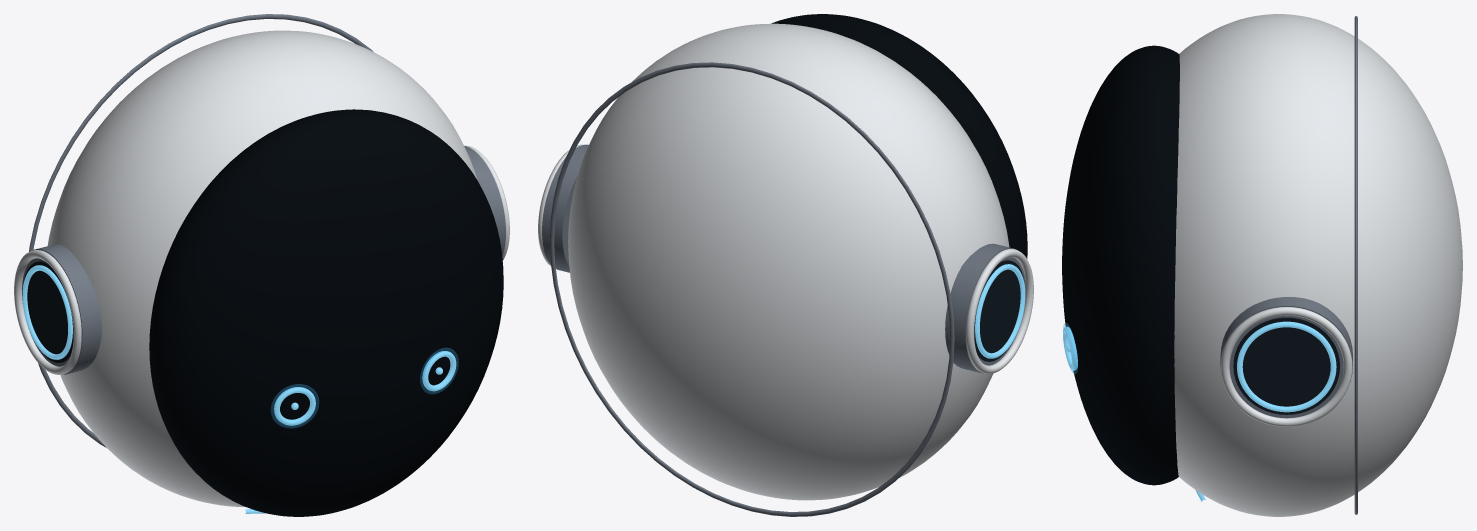
File: asl-head.glb
3 views of the same model, side by side, from view 1: azimuth 30°, elevation 25°; view 2: azimuth 150°, elevation 25°; view 3: azimuth 270°, elevation 25° (orthographic). The views are drawn at different scales.
Visible parts, largest first — view 1: GlassVisor, Head; view 2: Head, GlassVisor; view 3: Head, GlassVisor.
Part boxes in pixels (left/top/right/bottom): GlassVisor: left=149, top=109, right=503, bottom=516; Head: left=14, top=14, right=509, bottom=513; Head: left=538, top=23, right=1033, bottom=516; GlassVisor: left=771, top=14, right=1027, bottom=258; Head: left=1063, top=14, right=1462, bottom=516; GlassVisor: left=1062, top=45, right=1179, bottom=485.
Size of the model in its own units: 0.3194 by 0.314 by 0.248.
